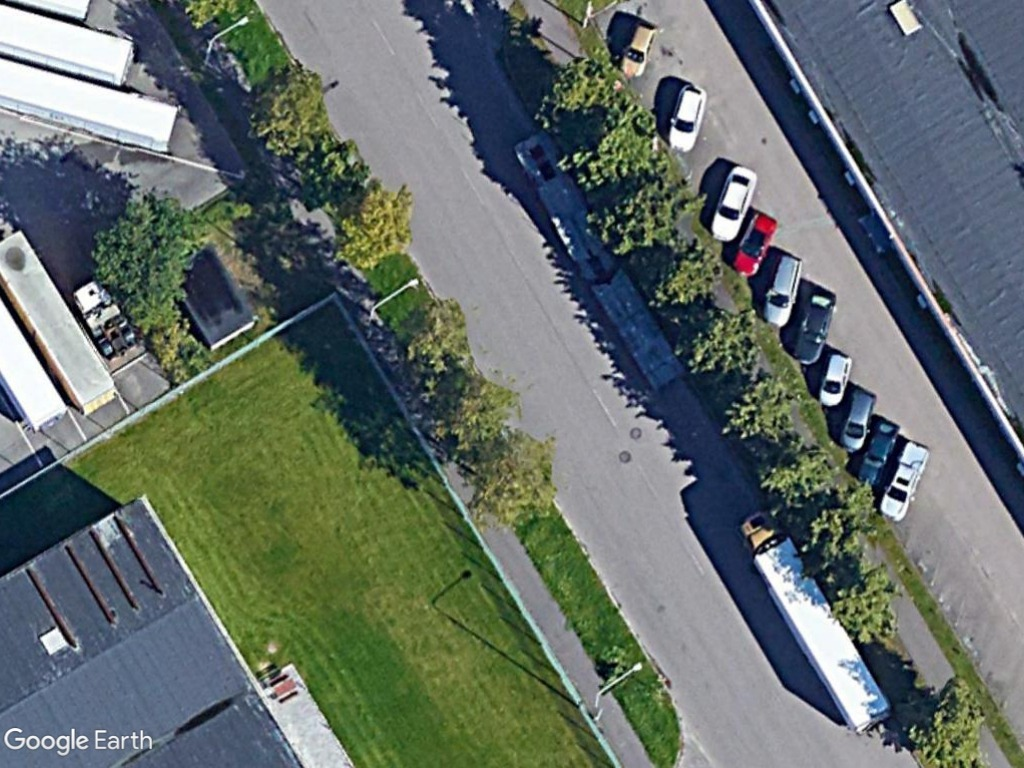car: (705, 158, 760, 246), (790, 285, 839, 369), (761, 250, 805, 332), (729, 211, 781, 279), (665, 76, 709, 155), (613, 16, 661, 82), (835, 386, 878, 455), (817, 350, 857, 408)
longvehicle: (739, 504, 900, 737)
other: (871, 438, 935, 521), (851, 416, 901, 491)
